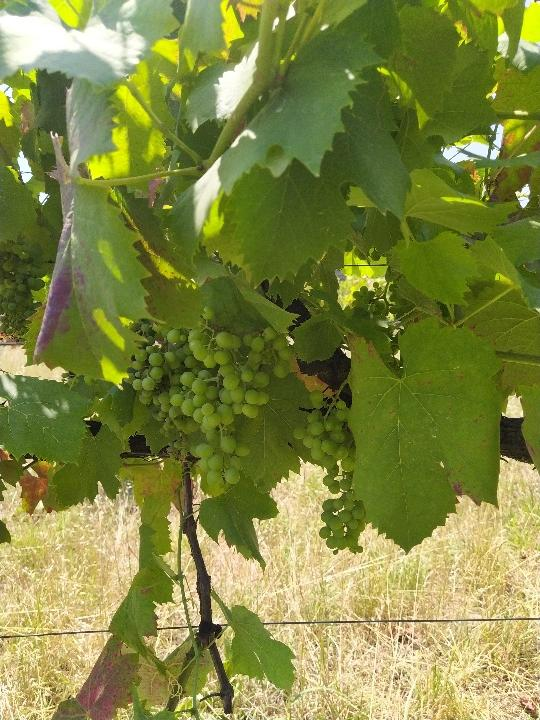grape: (125, 326, 290, 503), (293, 393, 366, 558)
